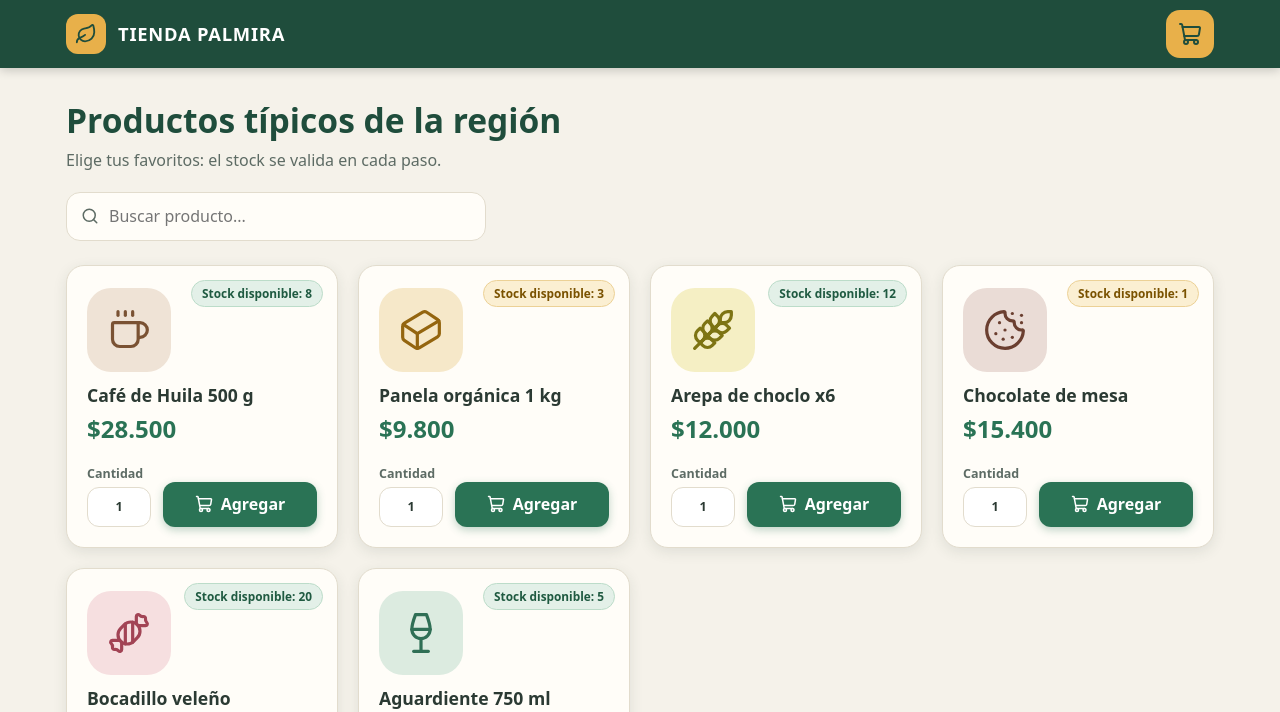
Test: Reto carrito de compras - casos de prueba del instructor › 9. agregar dos veces el mismo producto: una sola línea
Click the button "Agregar" below "$12.000". click: (824, 504)
box: [747,482,901,527]
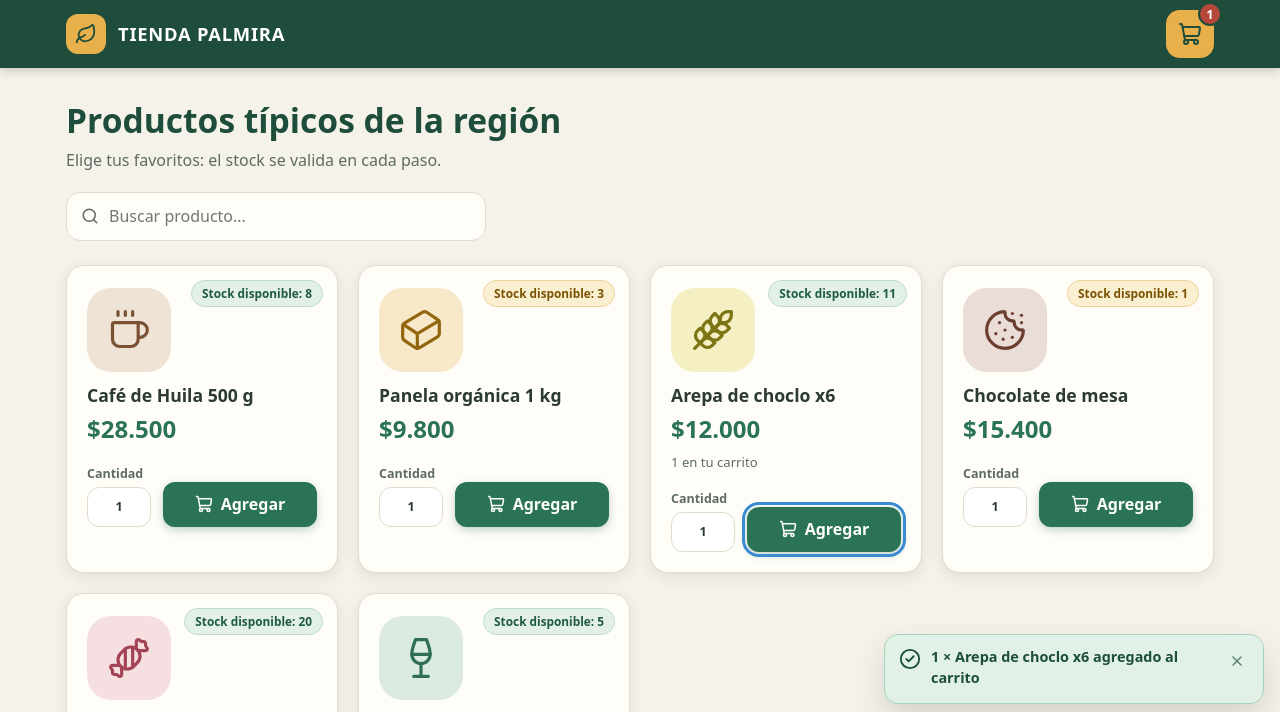
Click the button "Agregar" below "en tu carrito". click: (824, 530)
box: [747,507,901,552]
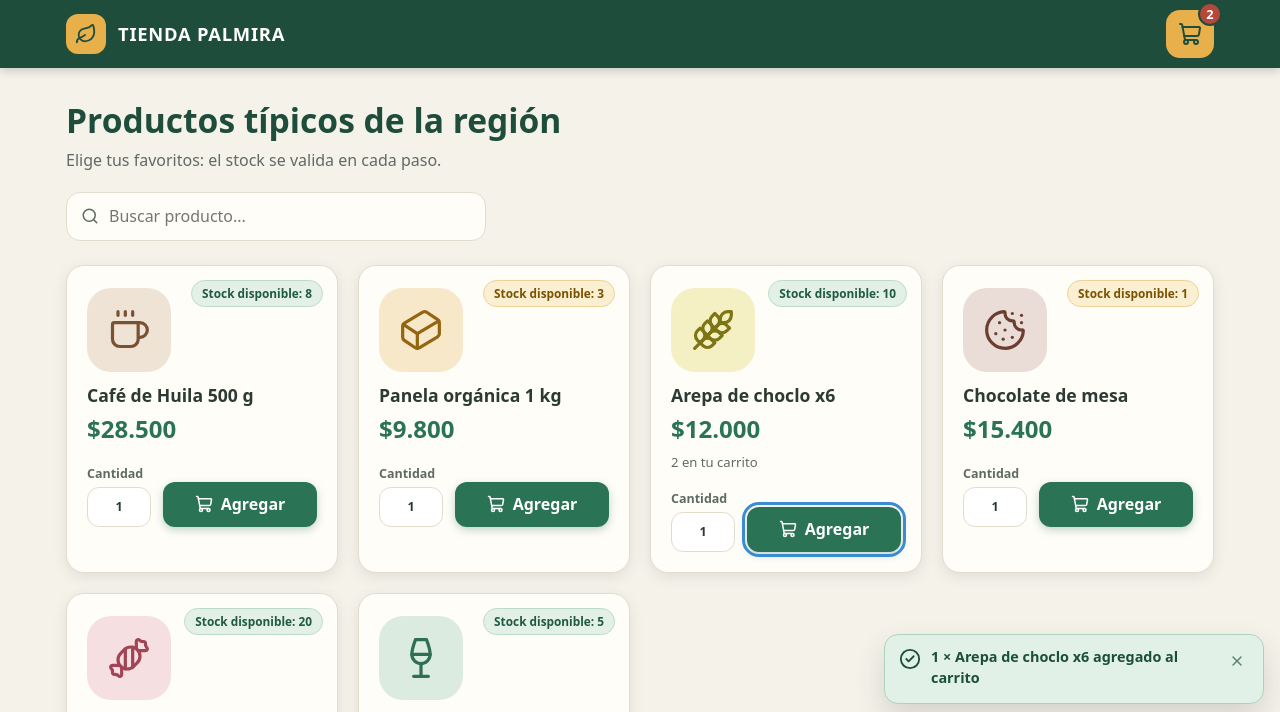
Click the button named "abrir carrito". click: (1190, 34)
box: [1166,10,1214,58]
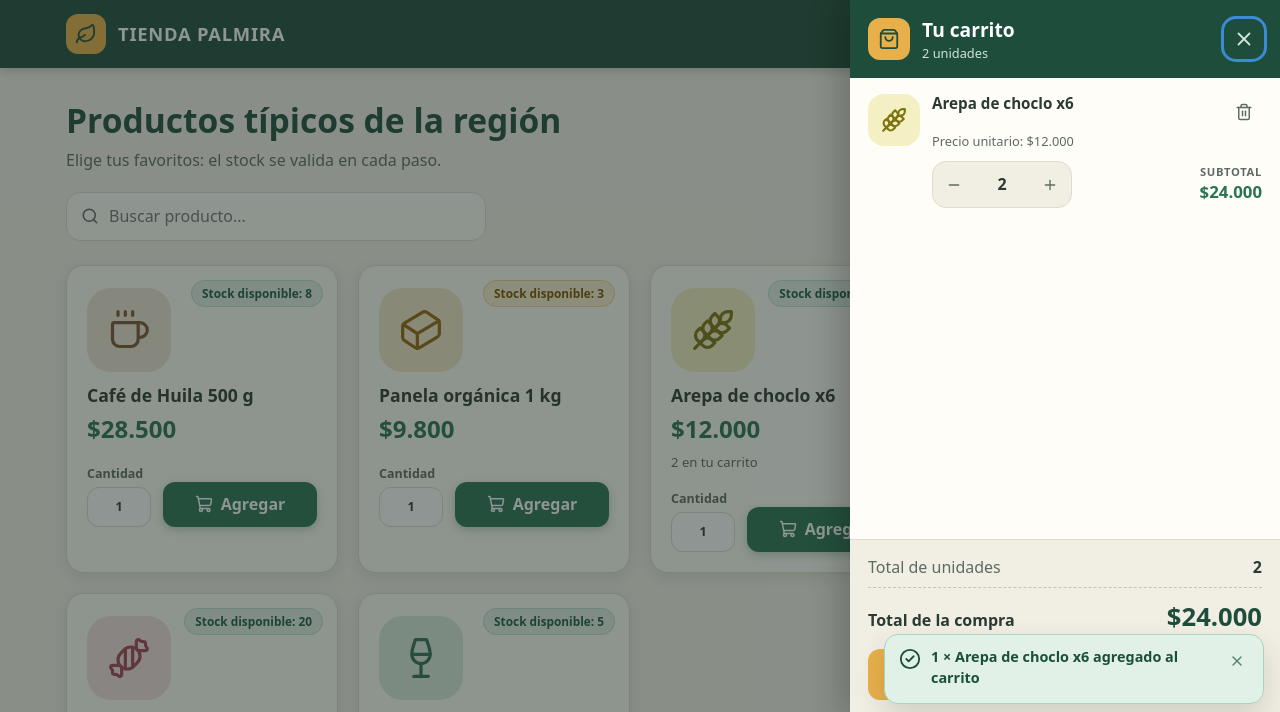
Result: the number of list items is 1 at [868,94,1262,222]
Result: the field named "Cantidad de Arepa de choclo x6 en el carrito" holds "2" at [976,165,1028,204]
